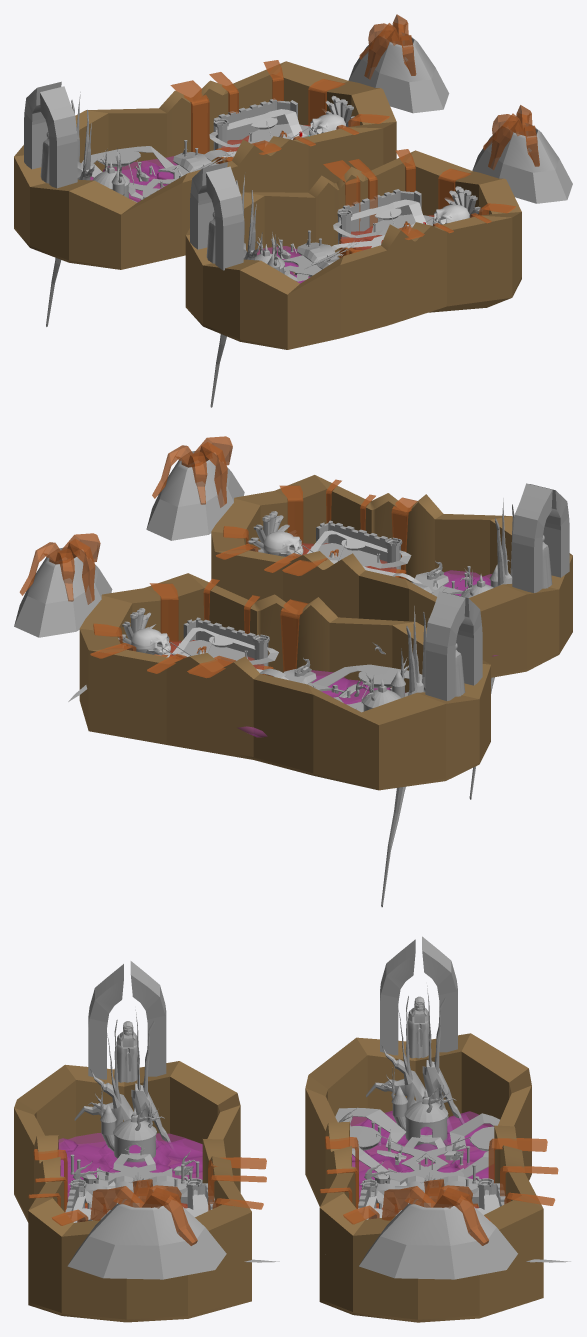
Rendered from TWoEnvironments.fbx.
The picture shows the model from 3 angles, top to bottom: view 1: azimuth 30°, elevation 25°; view 2: azimuth 150°, elevation 25°; view 3: azimuth 270°, elevation 25°; orthographic projection. The views are drawn at different scales.
Parts seen in each view (by area): view 1: pCube138, pCube1, pCube99 (×2), pCube12 (×2), pCube141, pCube124, pCube97 (×2), pSphere3 (×2), pCube139, pCube123, pCube92 (×2), pCube34 (+9 smaller); view 2: pCube1, pCube138, pCube99 (×2), pCube12 (×2), pCube123, pCube139, pCube98 (×2), pCube91 (×2), pSphere2 (×2), pCube141, pCube124, pSphere3 (×2) (+7 smaller); view 3: pCube1, pCube138, pCube99 (×2), pCube12 (×2), pCube34, pCylinder1 (×2), pCube124, pCube141, pCube139, pCube123, pCube61 (×2), pSphere3 (×2) (+17 smaller).
Part boxes in pixels (x1,y1,x2,y2): pCube138: [185, 150, 521, 349]; pCube1: [14, 61, 396, 269]; pCube99 (×2): [348, 32, 572, 203]; pCube12 (×2): [359, 14, 539, 169]; pCube141: [206, 166, 243, 270]; pCube124: [40, 86, 77, 188]; pCube97 (×2): [170, 80, 360, 254]; pSphere3 (×2): [209, 109, 427, 251]; pCube139: [190, 162, 227, 249]; pCube123: [24, 81, 61, 169]; pCube92 (×2): [308, 79, 471, 209]; pCube34: [81, 146, 174, 202]; pCube1: [79, 573, 490, 790]; pCube138: [211, 475, 572, 677]; pCube99 (×2): [14, 451, 244, 637]; pCube12 (×2): [19, 436, 232, 604]; pCube123: [425, 591, 465, 700]; pCube139: [512, 483, 552, 592]; pCube98 (×2): [280, 497, 417, 671]; pCube91 (×2): [149, 485, 303, 643]; pSphere2 (×2): [131, 531, 303, 657]; pCube141: [530, 484, 569, 577]; pCube124: [443, 592, 482, 685]; pSphere3 (×2): [171, 530, 422, 680]; pCube1: [305, 1033, 543, 1322]; pCube138: [14, 1061, 251, 1322]; pCube99 (×2): [67, 1196, 517, 1279]; pCube12 (×2): [90, 1179, 488, 1245]; pCube34: [335, 1108, 499, 1177]; pCylinder1 (×2): [113, 1089, 448, 1166]; pCube124: [380, 939, 415, 1055]; pCube141: [88, 964, 123, 1079]; pCube139: [130, 961, 166, 1076]; pCube123: [422, 936, 457, 1052]; pCube61 (×2): [119, 1060, 464, 1148]; pSphere3 (×2): [72, 1181, 499, 1222].
Bounding box in the file's own units: 531 × 339 × 529.
